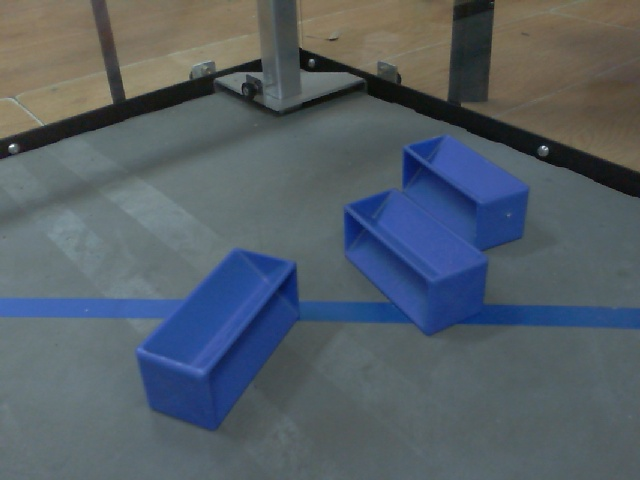BlueSample: (133, 243, 303, 431), (340, 185, 492, 341), (399, 131, 532, 257)
